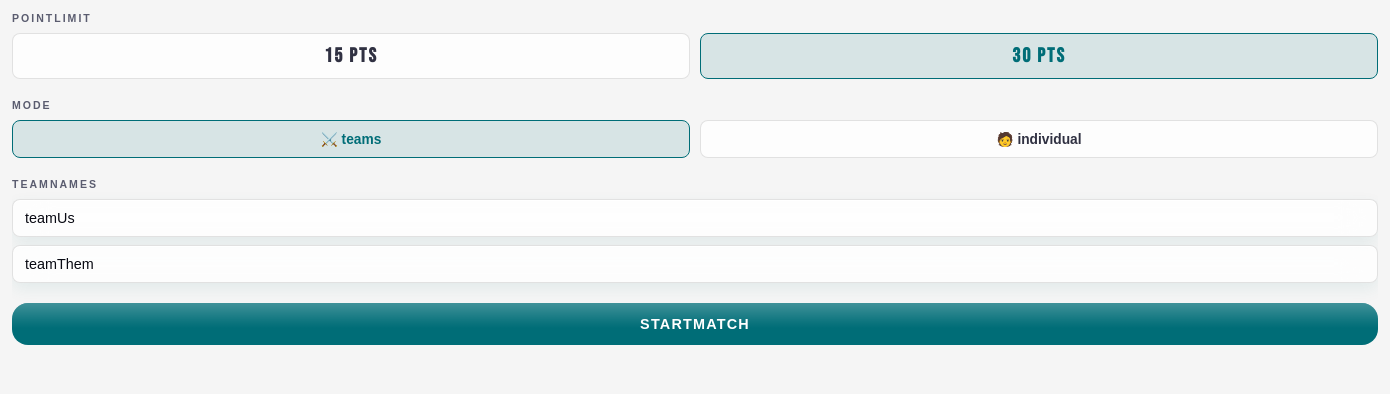
Test: TrucoNewMatch › adds a player row in individual mode
The width and height of the screenshot is (1390, 394).
Step 1. Click the button "🧑 individual" → x=1039, y=139, box [700,120,1378,158]
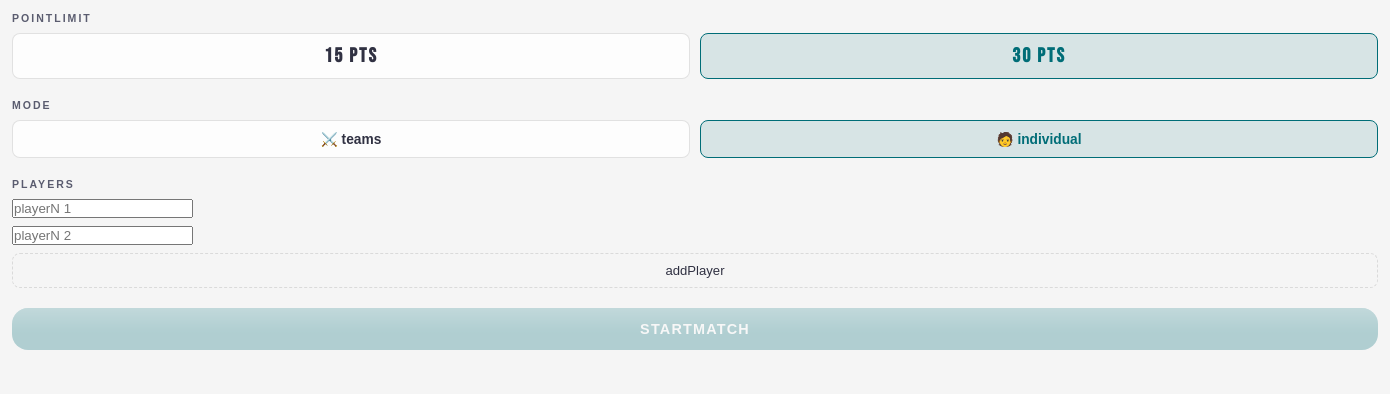
Step 2. Click the button "addPlayer" → x=695, y=270, box [12,253,1378,288]
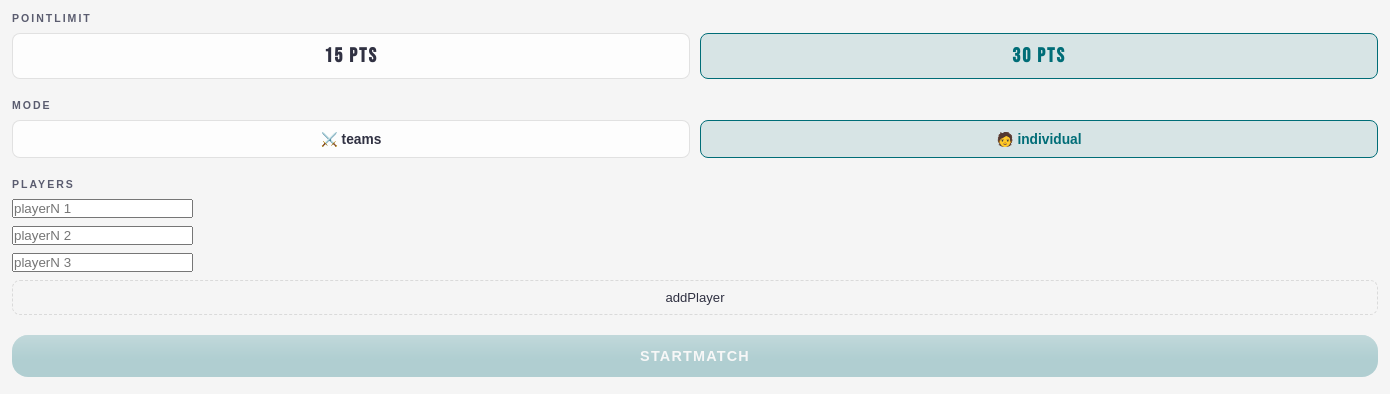
Result: the number of fields with test id "linked-player-input" is 3 at [12,199,193,218]; [12,226,193,245]; [12,253,193,272]
